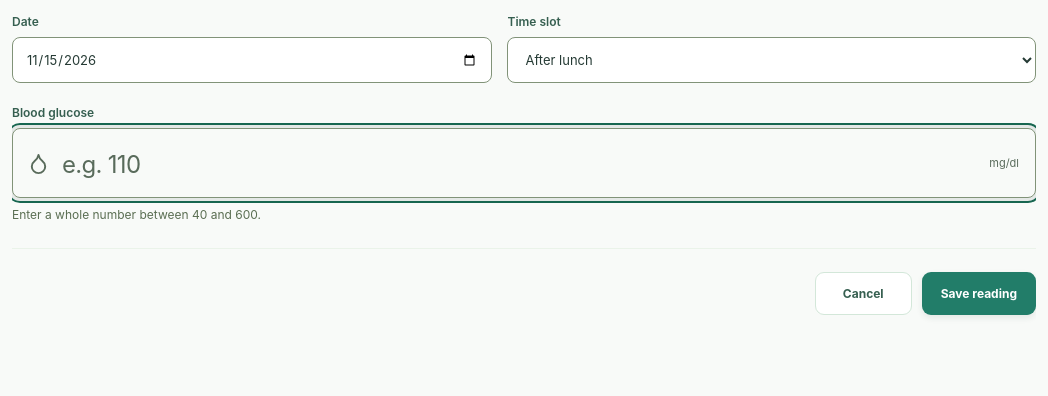
Scenario: Reading form › shows the server conflict and keeps the entered value available for correction
The width and height of the screenshot is (1048, 396).
In the number field labelled "Blood glucose": (524, 163) [12,128,1036,198], type "125"
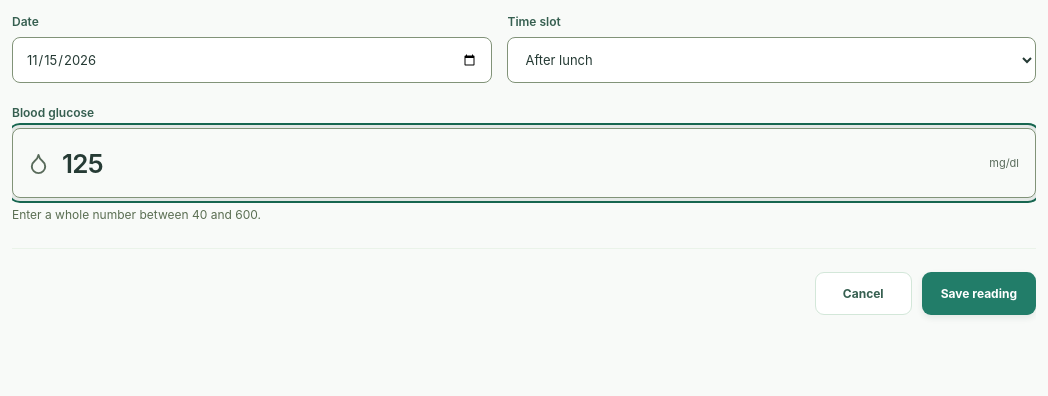
Click the button "Save reading": (979, 294) [922,272,1036,315]
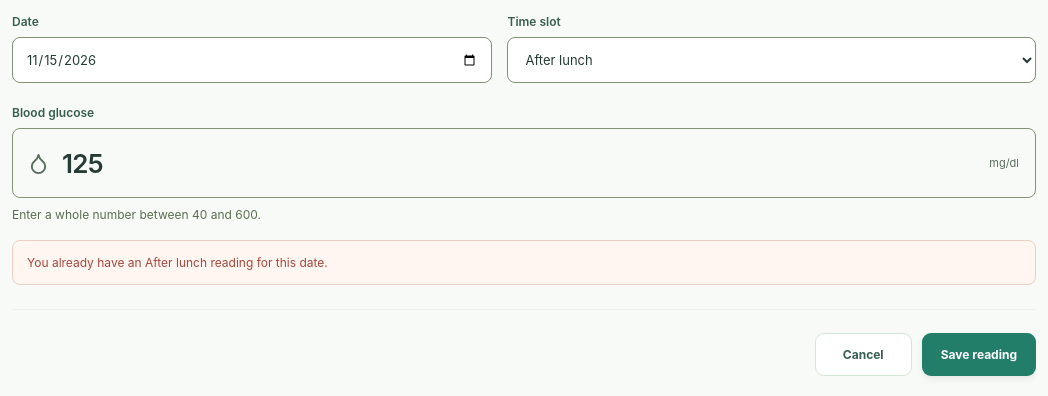
Expected: the button "Save reading" is enabled, [922,333,1036,376]
Expected: the message reads "You already have an After lunch reading for this date.", [27,255,328,270]
